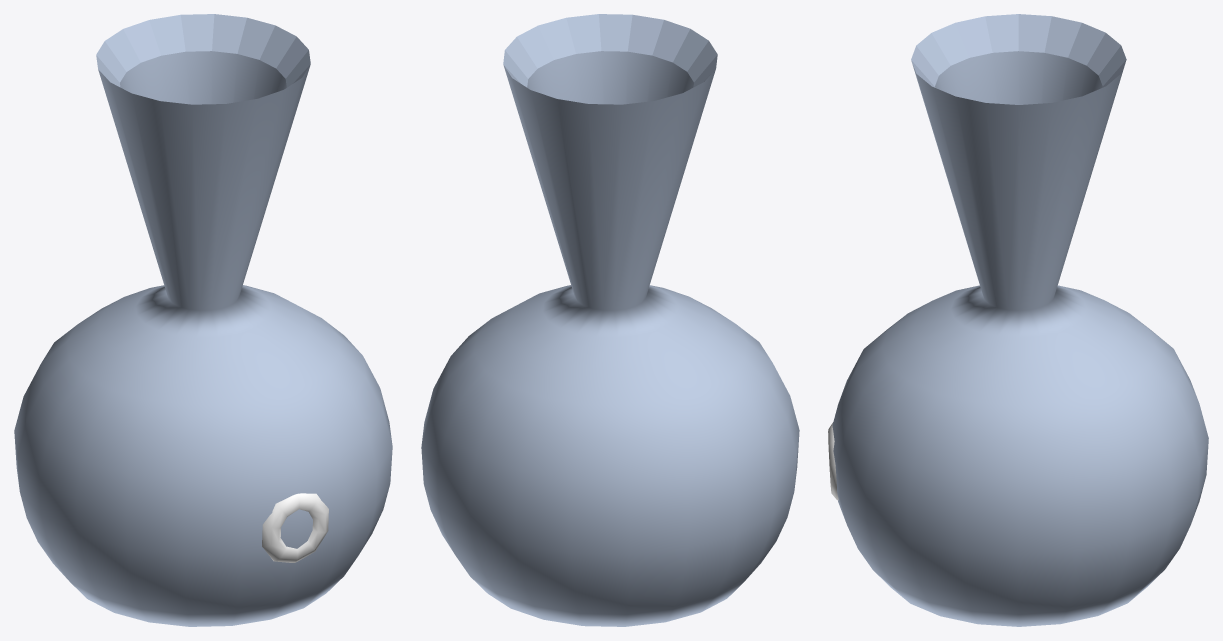
File: drinkingvessel.fbx
3 views of the same model, side by side, from view 1: azimuth 30°, elevation 25°; view 2: azimuth 150°, elevation 25°; view 3: azimuth 270°, elevation 25° (orthographic).
Visible parts, largest first — view 1: drinkingvessel, decoration; view 2: drinkingvessel; view 3: drinkingvessel.
Part boxes in pixels (x1=…): drinkingvessel: x1=14, y1=14, x2=392, y2=626; decoration: x1=262, y1=493, x2=328, y2=562; drinkingvessel: x1=421, y1=14, x2=799, y2=626; drinkingvessel: x1=832, y1=14, x2=1208, y2=626.
Bounding box in the file's own units: 13.45 × 19.94 × 13.47.
